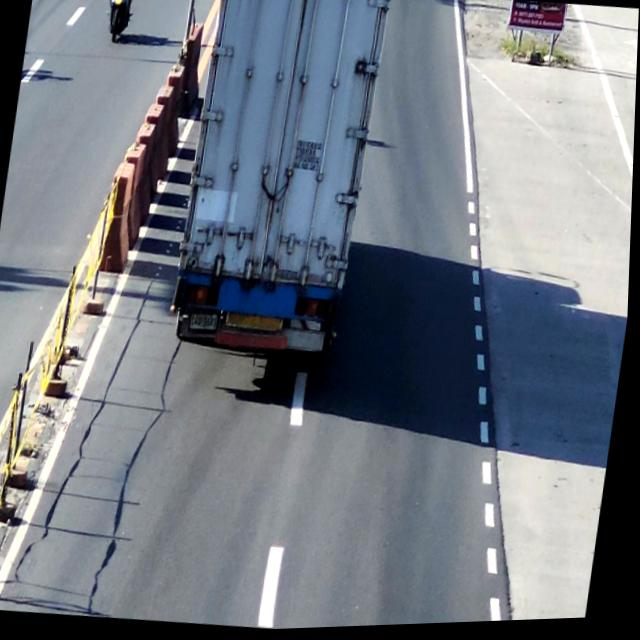License-Plate: (187, 309, 223, 339)
Truck: (170, 0, 389, 361)
